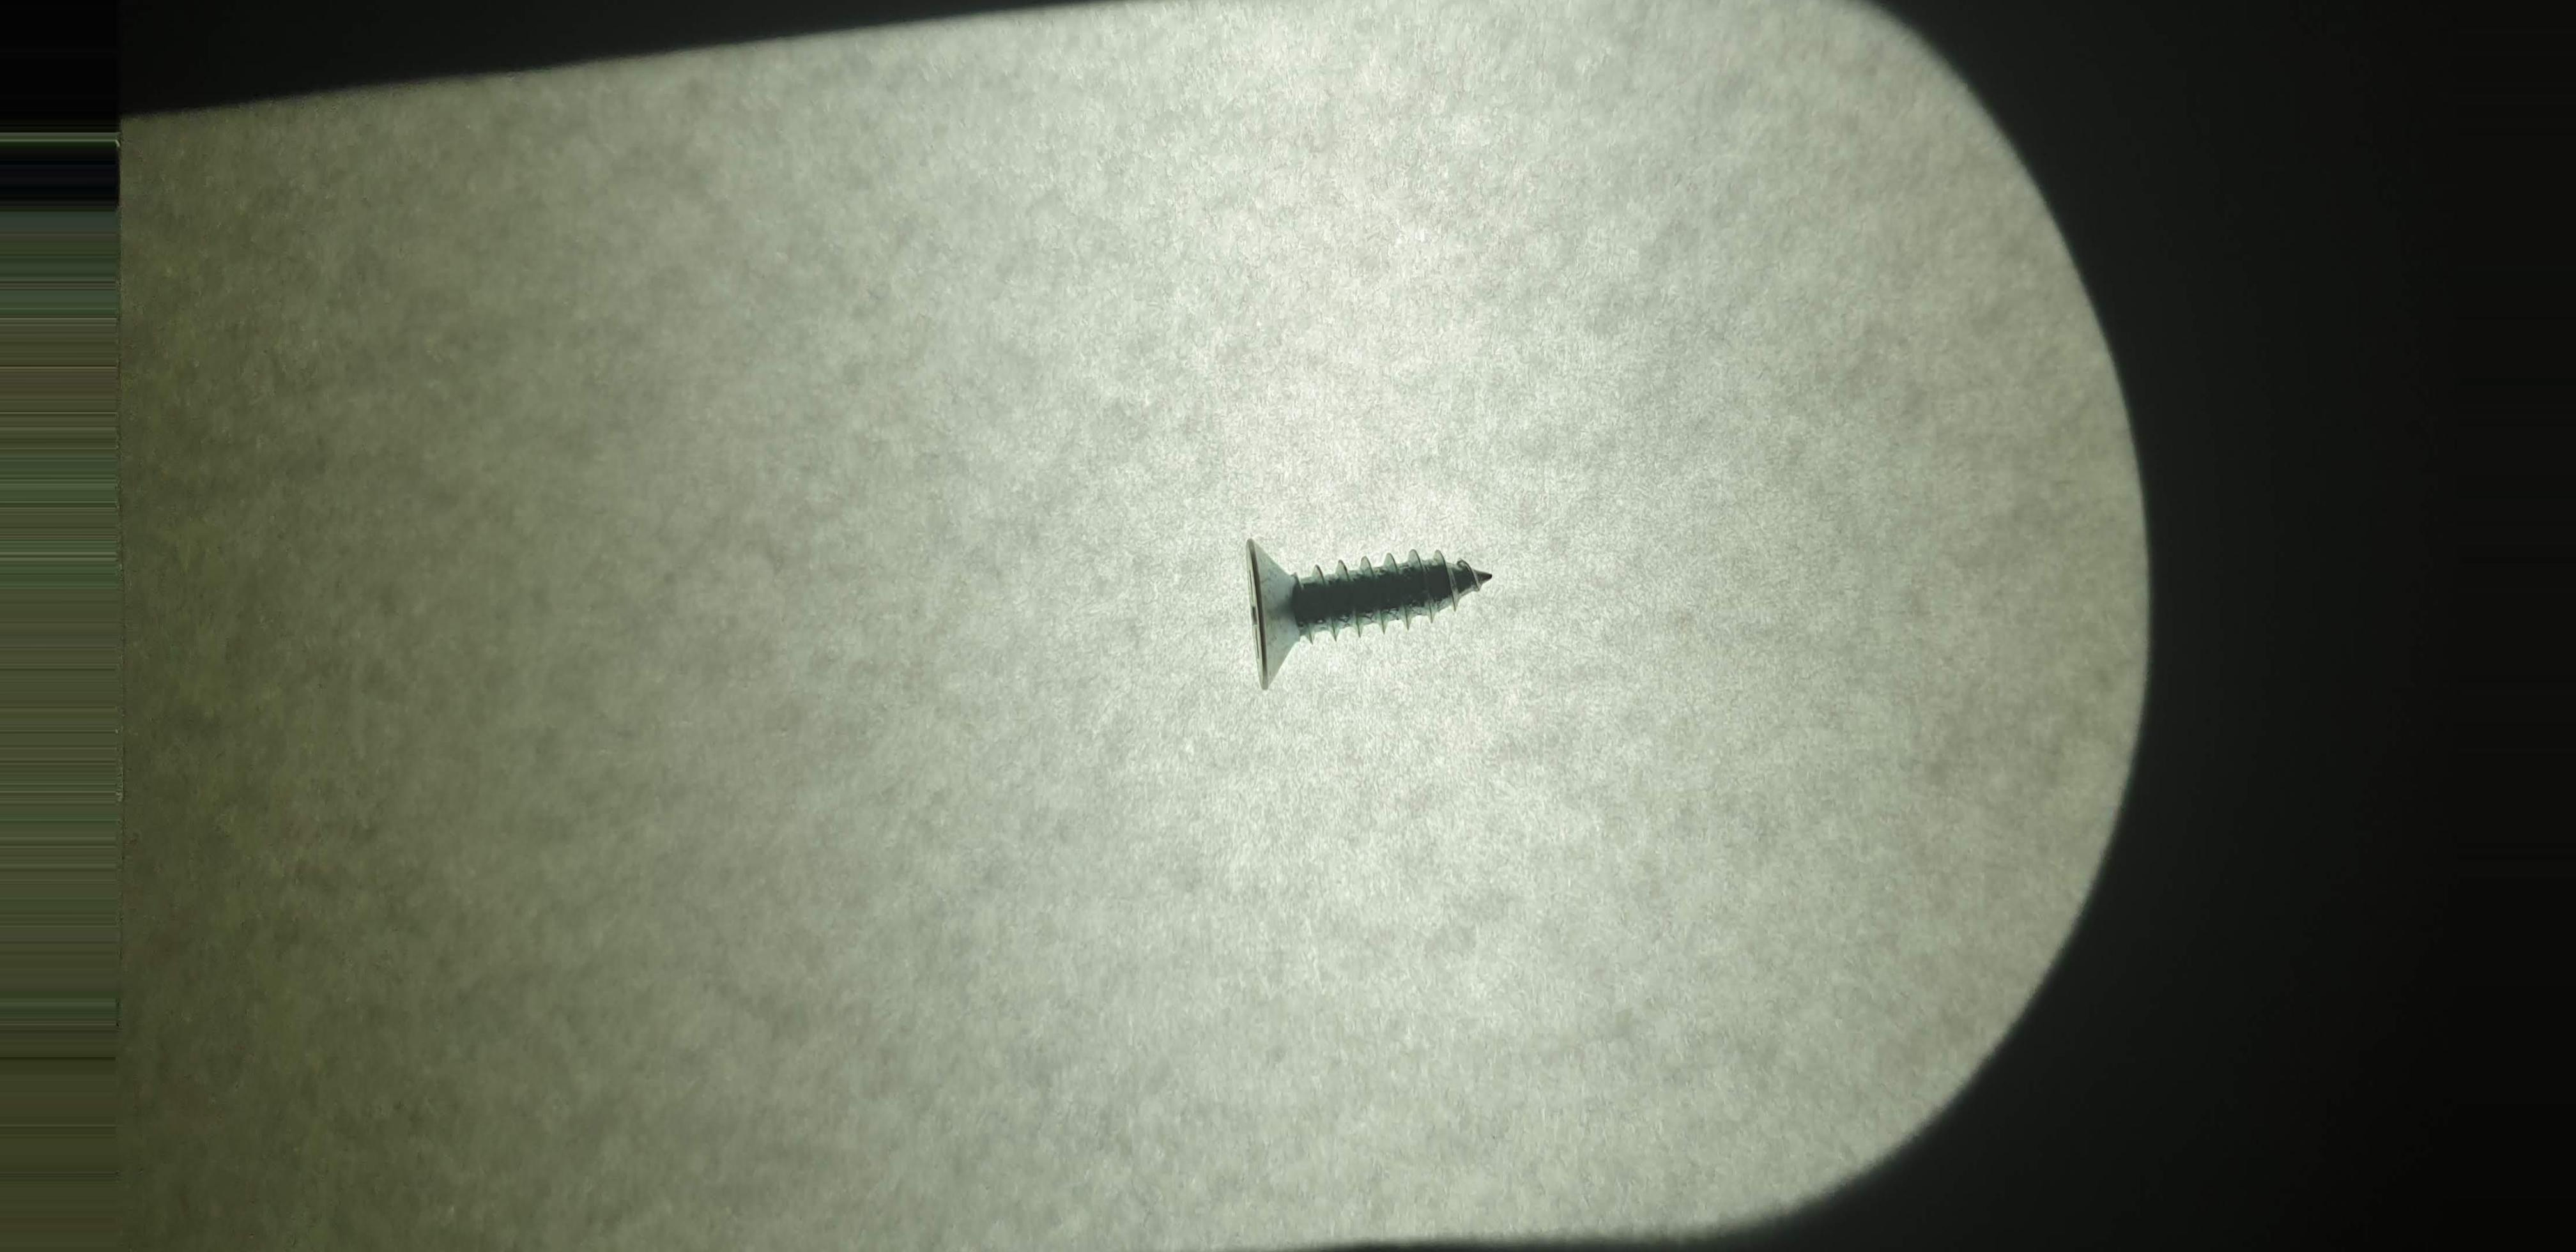S003: (1209, 516, 1515, 695)
